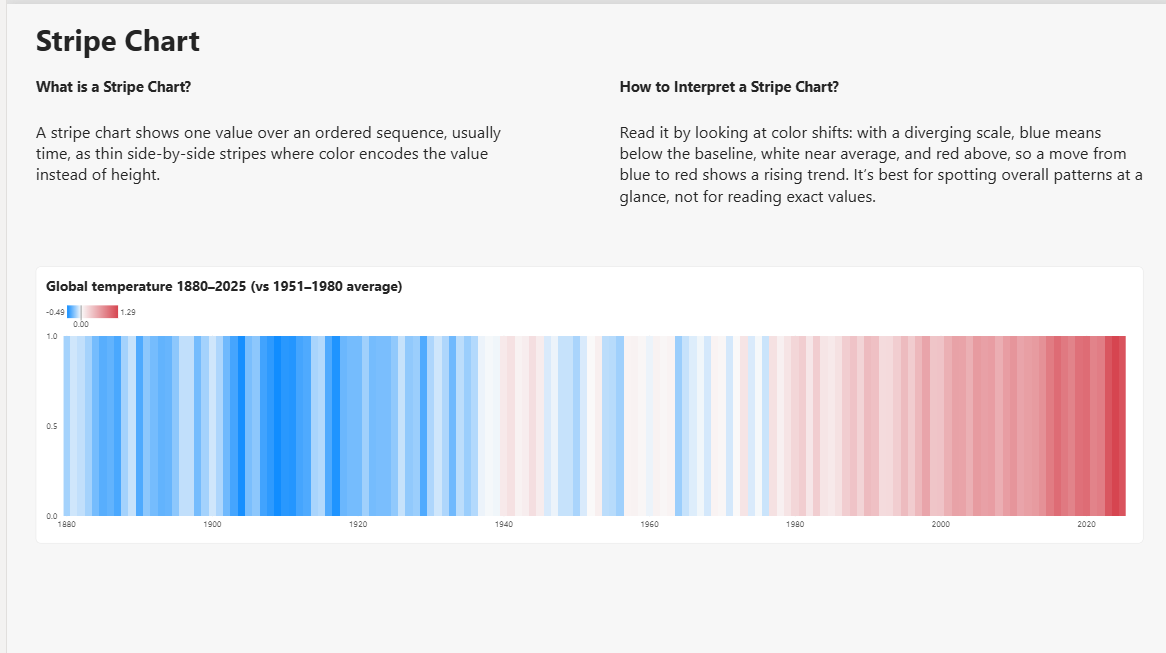

The dashboard page shown, as its layout file describes it:
{"tool":"powerbi","page":{"name":"Page 1","canvas":[1920,1080],"ordinal":0},"visuals":[{"type":"clusteredColumnChart","title":"Global temperature 1880–2025 (vs 1951–1980 average)","fields":{"Category":["GlobalTemp.Year"],"Y":["_Measures.Stripe Height"]},"box":[48,432,1824,456],"z":0},{"type":"textbox","box":[48,24,312,96],"z":1},{"type":"textbox","box":[48,192,792,120],"z":2},{"type":"textbox","box":[1008,120,456,48],"z":3},{"type":"textbox","box":[1008,192,864,168],"z":4},{"type":"textbox","box":[48,0,960,150],"z":5},{"type":"textbox","box":[48,120,552,72],"z":6}]}

Visuals, with their boxes in screenshot pixels (x1, y1, x2, y2), scaled from the page's 1920x1080 canvas onto the 1166x653 screenshot:
"Global temperature 1880–2025 (vs 1951–1980 average)" clusteredColumnChart: 29:261:1137:537
textbox: 29:15:219:73
textbox: 29:116:510:189
textbox: 612:73:889:102
textbox: 612:116:1137:218
textbox: 29:0:612:91
textbox: 29:73:364:116
